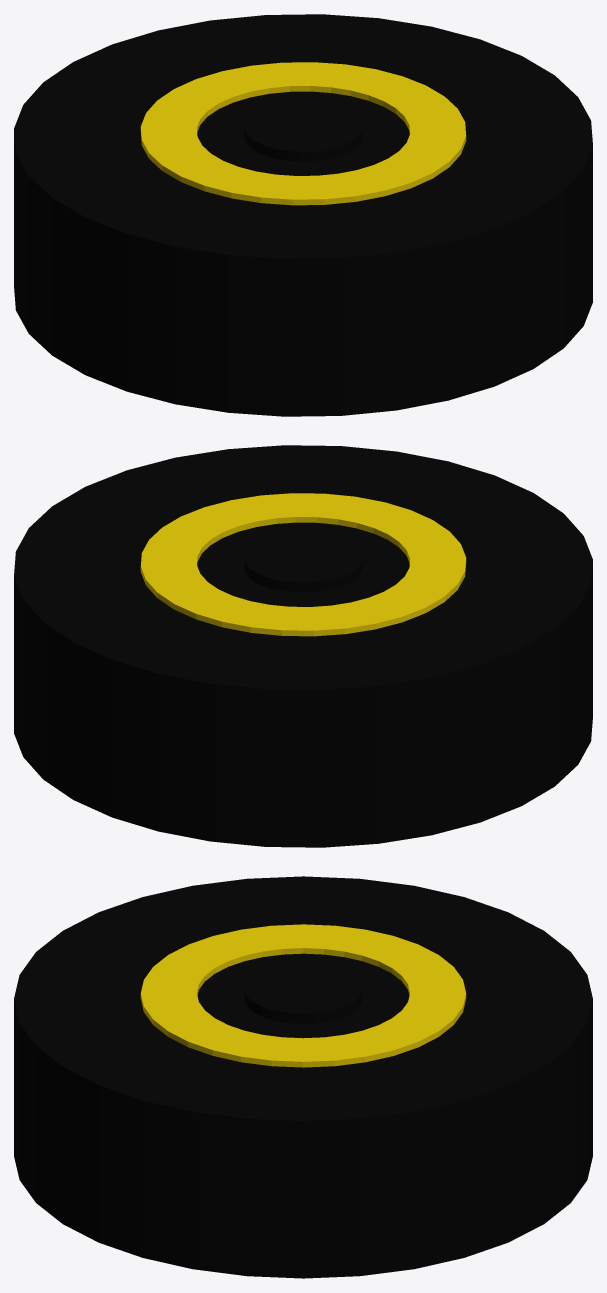
File: racewheel-transformed.glb
The picture shows the model from 3 angles, top to bottom: view 1: azimuth 30°, elevation 25°; view 2: azimuth 150°, elevation 25°; view 3: azimuth 270°, elevation 25°; orthographic projection.
Visible parts, largest first — view 1: Cylinder, Cylinder.001, Cylinder.002; view 2: Cylinder, Cylinder.001, Cylinder.002; view 3: Cylinder, Cylinder.001, Cylinder.002.
Boxes of the visible parts, box(x1,y1,x2,y2) form: Cylinder: box(14, 14, 592, 416); Cylinder.001: box(140, 62, 466, 205); Cylinder.002: box(244, 101, 362, 161); Cylinder: box(14, 445, 592, 847); Cylinder.001: box(140, 493, 466, 636); Cylinder.002: box(244, 532, 362, 592); Cylinder: box(14, 876, 592, 1278); Cylinder.001: box(140, 924, 466, 1067); Cylinder.002: box(244, 964, 362, 1023).
Bounding box in the file's own units: 2 × 0.6378 × 2.
